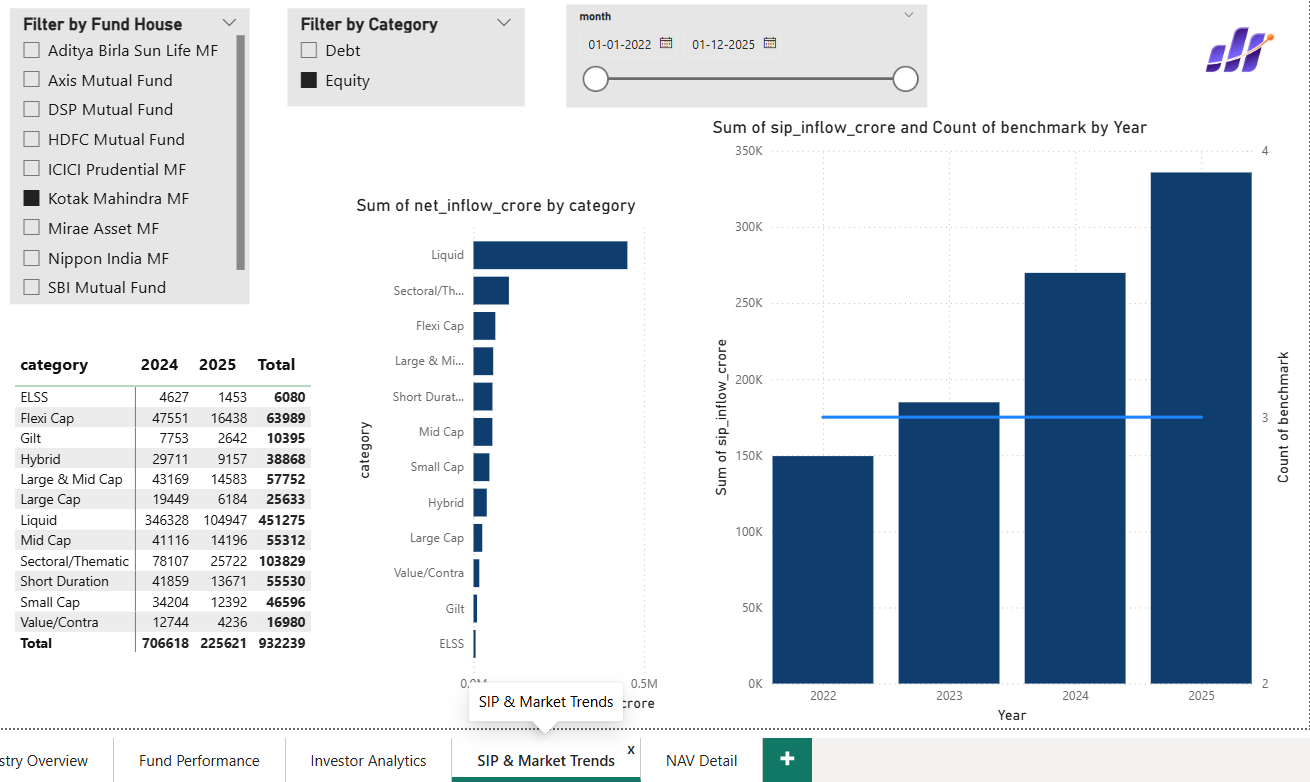

This screenshot's page, from the dashboard's own definition file:
{"tool":"powerbi","page":{"name":"SIP & Market Trends","canvas":[1280,720],"ordinal":3},"visuals":[{"type":"slicer","fields":{"Values":["01_fund_master.fund_house"]},"box":[9.6,16.5,234.6,289.5],"z":0},{"type":"slicer","fields":{"Values":["01_fund_master.category"]},"box":[281.3,16.5,231.9,96.1],"z":1000},{"type":"slicer","fields":{"Values":["04_monthly_sip_inflows.month"]},"box":[554.4,12.3,352.7,100.2],"z":2000},{"type":"lineClusteredColumnComboChart","fields":{"Category":["04_monthly_sip_inflows.month.Variation.Date Hierarchy.Year","04_monthly_sip_inflows.month.Variation.Date Hierarchy.Quarter","04_monthly_sip_inflows.month.Variation.Date Hierarchy.Month","04_monthly_sip_inflows.month.Variation.Date Hierarchy.Day"],"Y":["Sum(04_monthly_sip_inflows.sip_inflow_crore)"],"Y2":["CountNonNull(01_fund_master.benchmark)"]},"box":[691.6,122.1,576.3,598.3],"z":3000},{"type":"pivotTable","fields":{"Rows":["05_category_inflows.category"],"Columns":["05_category_inflows.month.Variation.Date Hierarchy.Year","05_category_inflows.month.Variation.Date Hierarchy.Quarter","05_category_inflows.month.Variation.Date Hierarchy.Month","05_category_inflows.month.Variation.Date Hierarchy.Day"],"Values":["Sum(05_category_inflows.net_inflow_crore)"]},"box":[9.6,345.8,333.4,374.6],"z":4000},{"type":"clusteredBarChart","fields":{"Category":["05_category_inflows.category"],"Y":["Sum(05_category_inflows.net_inflow_crore)"]},"box":[343.1,197.6,338.9,510.5],"z":5000},{"type":"image","box":[1141.7,16.5,138.6,81],"z":6000}]}

Visuals, with their boxes on the page's 1280x720 design canvas (x1, y1, x2, y2). These are canvas units, not pixel positions in the 1310x782 screenshot, which may show the page scaled, cropped or inside an application window:
slicer - 01_fund_master.fund_house: box=[10, 16, 244, 306]
slicer - 01_fund_master.category: box=[281, 16, 513, 113]
slicer - 04_monthly_sip_inflows.month: box=[554, 12, 907, 112]
lineClusteredColumnComboChart - 04_monthly_sip_inflows.month.Variation.Date Hierarchy.Year x 04_monthly_sip_inflows.month.Variation.Date Hierarchy.Quarter: box=[692, 122, 1268, 720]
pivotTable - 05_category_inflows.category x 05_category_inflows.month.Variation.Date Hierarchy.Year: box=[10, 346, 343, 720]
clusteredBarChart - 05_category_inflows.category x Sum(05_category_inflows.net_inflow_crore): box=[343, 198, 682, 708]
image: box=[1142, 16, 1280, 98]
